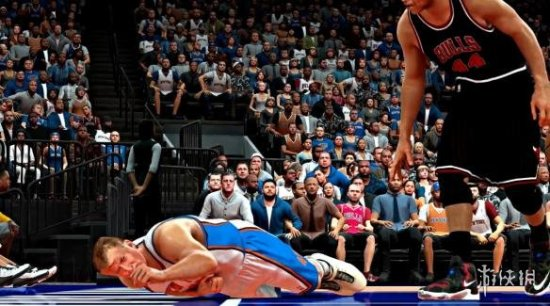10+: (2, 1, 550, 306)
down: (89, 215, 367, 298)
